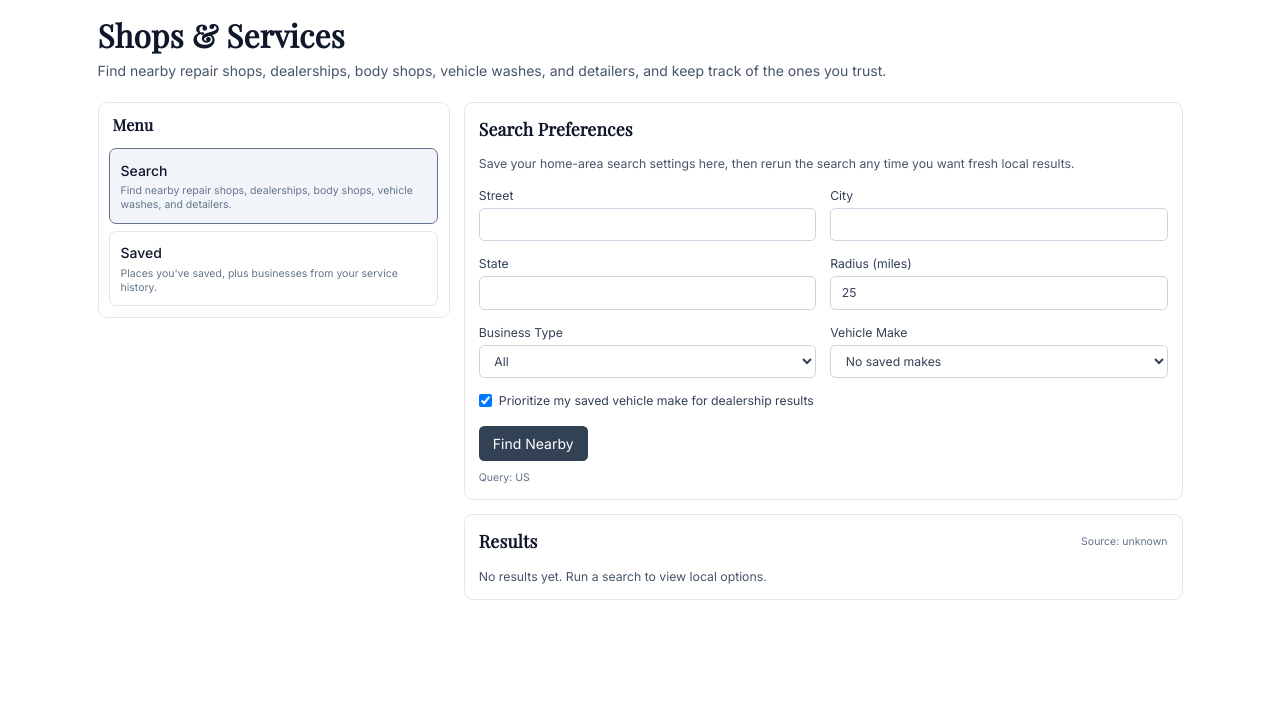
Scenario: ServiceProviders › shows success status after providers load
Expected: the heading "Shops & Services" is shown, x1=98 y1=14 x2=345 y2=56
Type "7 Birch Ln" into the field labelled "Street" at (647, 224), box x1=479 y1=208 x2=816 y2=241
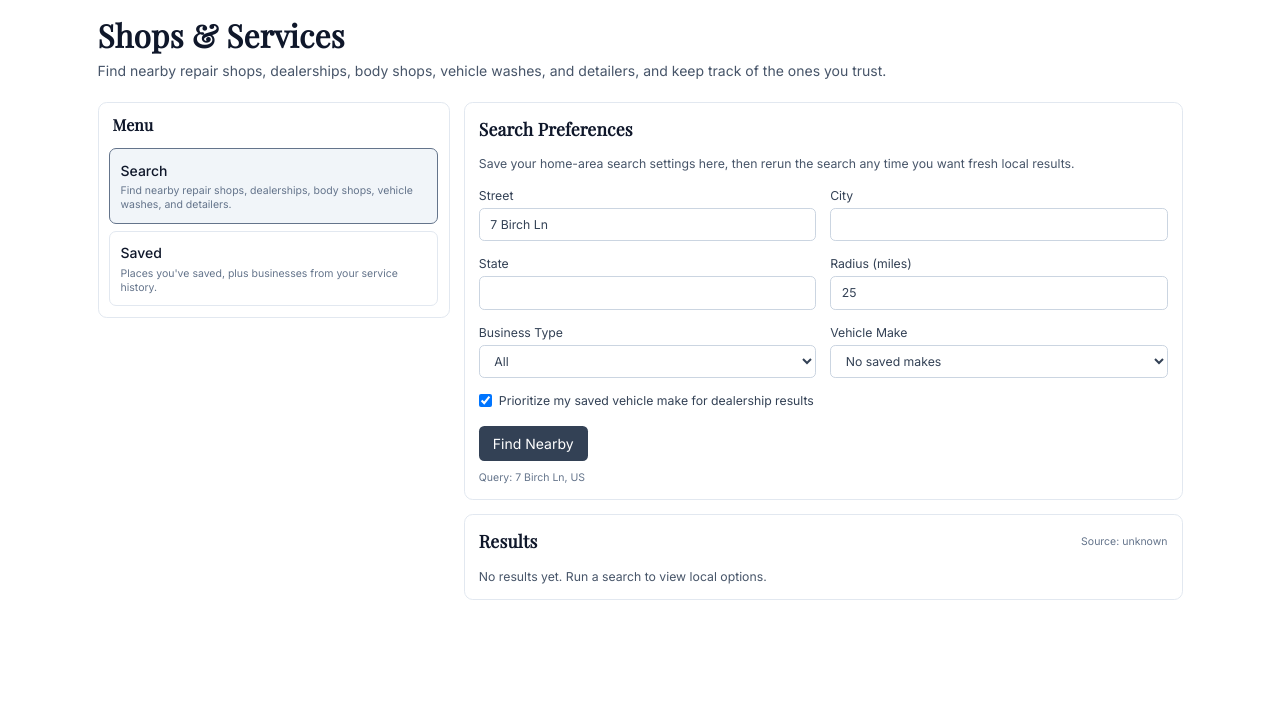
Type "Aurora" into the field labelled "City" at (999, 224), box x1=830 y1=208 x2=1168 y2=241
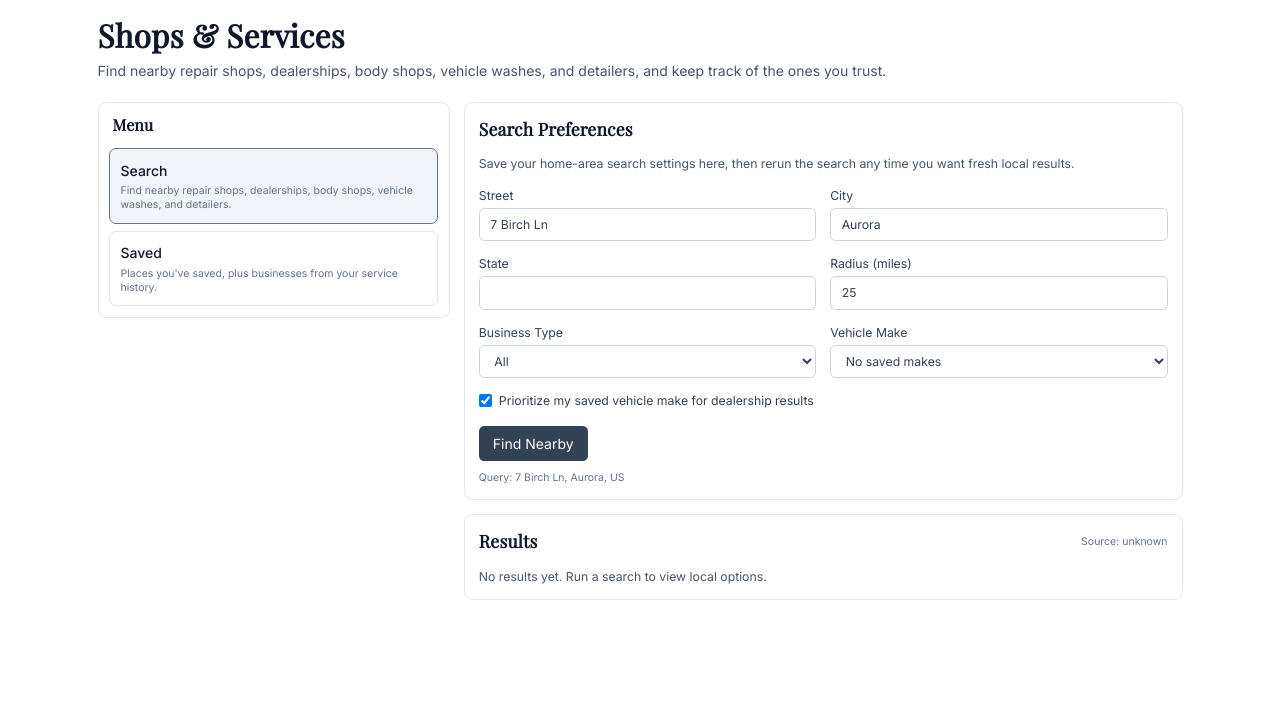
Type "IL" into the field labelled "State" at (647, 293), box x1=479 y1=276 x2=816 y2=310
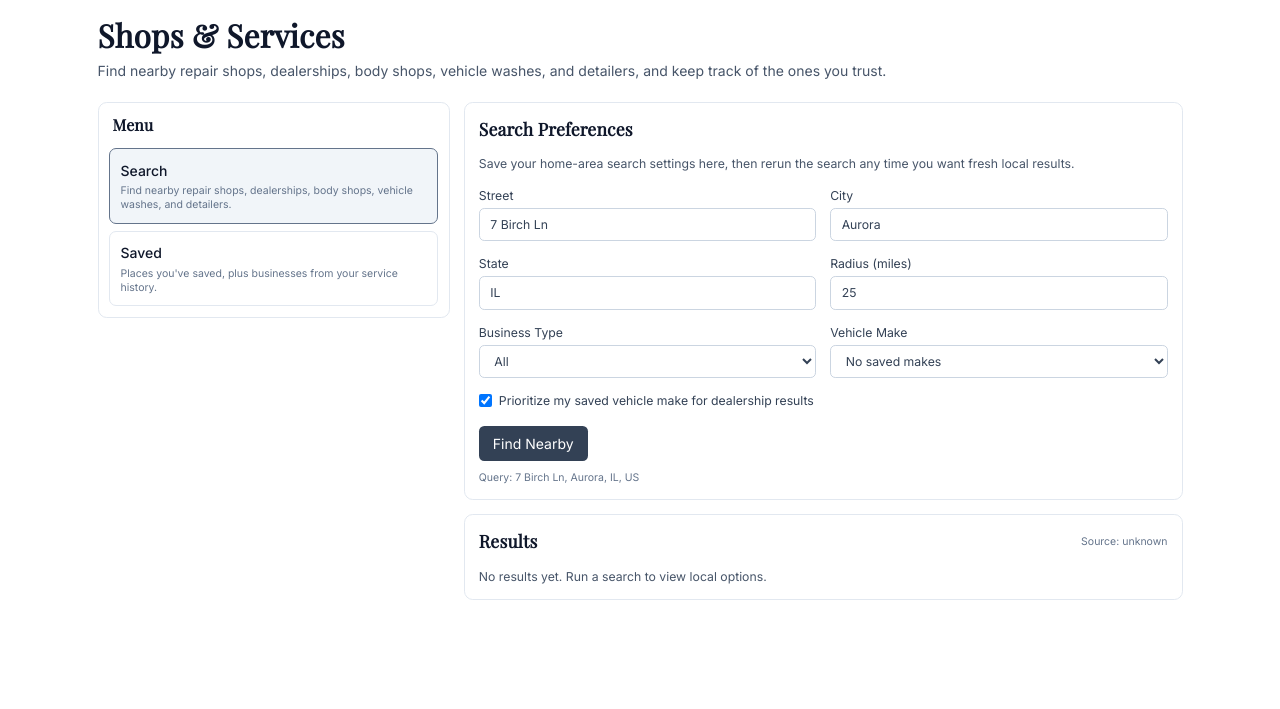
Click the button "Find Nearby" at (533, 443), box x1=479 y1=426 x2=588 y2=461
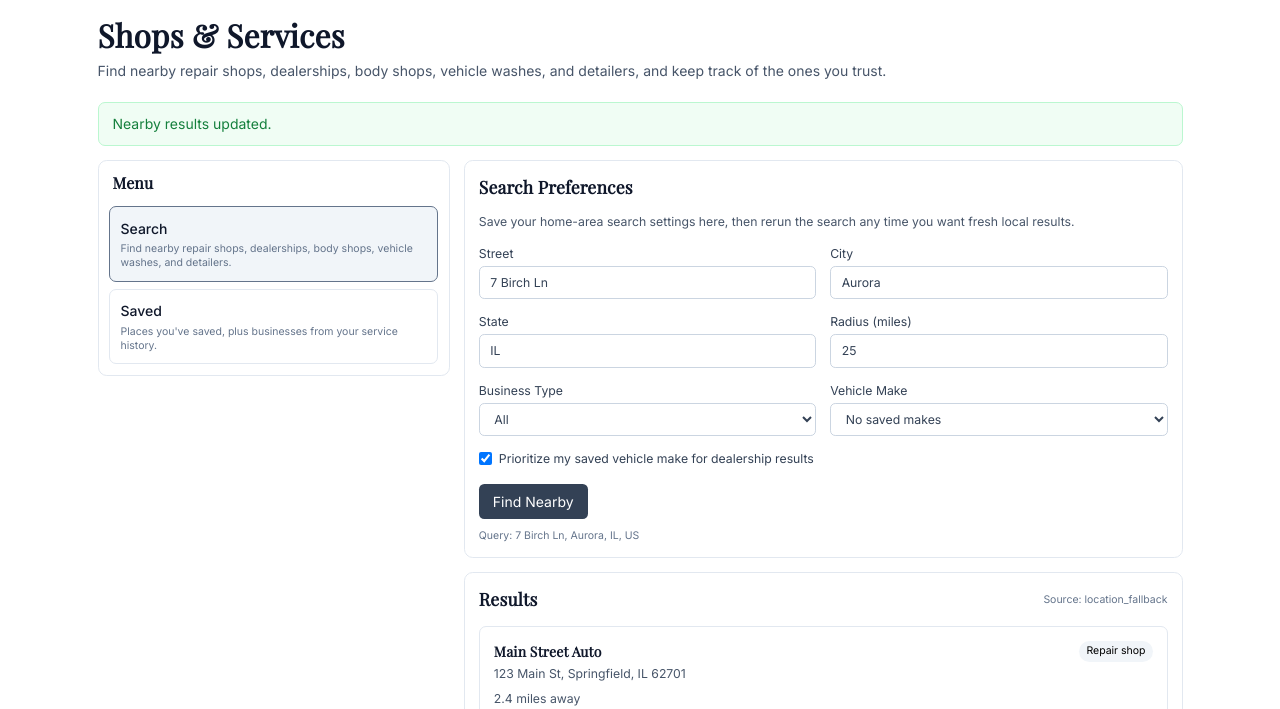
Result: the text "Nearby results updated." is shown at x1=98 y1=102 x2=1182 y2=146
